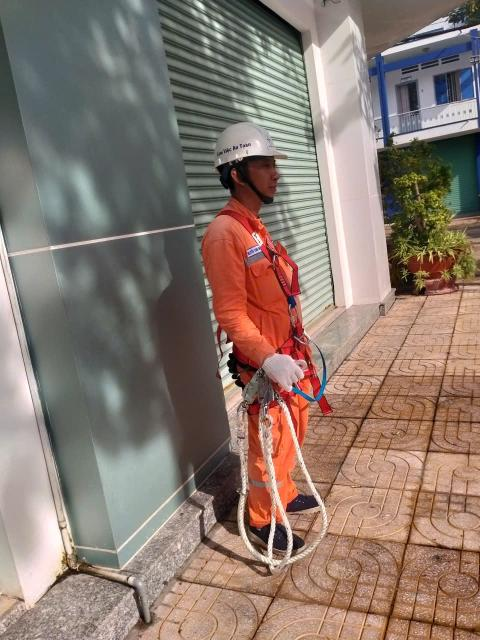gloves: (249, 350, 313, 392)
harness: (225, 331, 329, 400)
helmet: (198, 119, 299, 171)
shoes: (245, 516, 327, 574), (266, 491, 336, 523)
